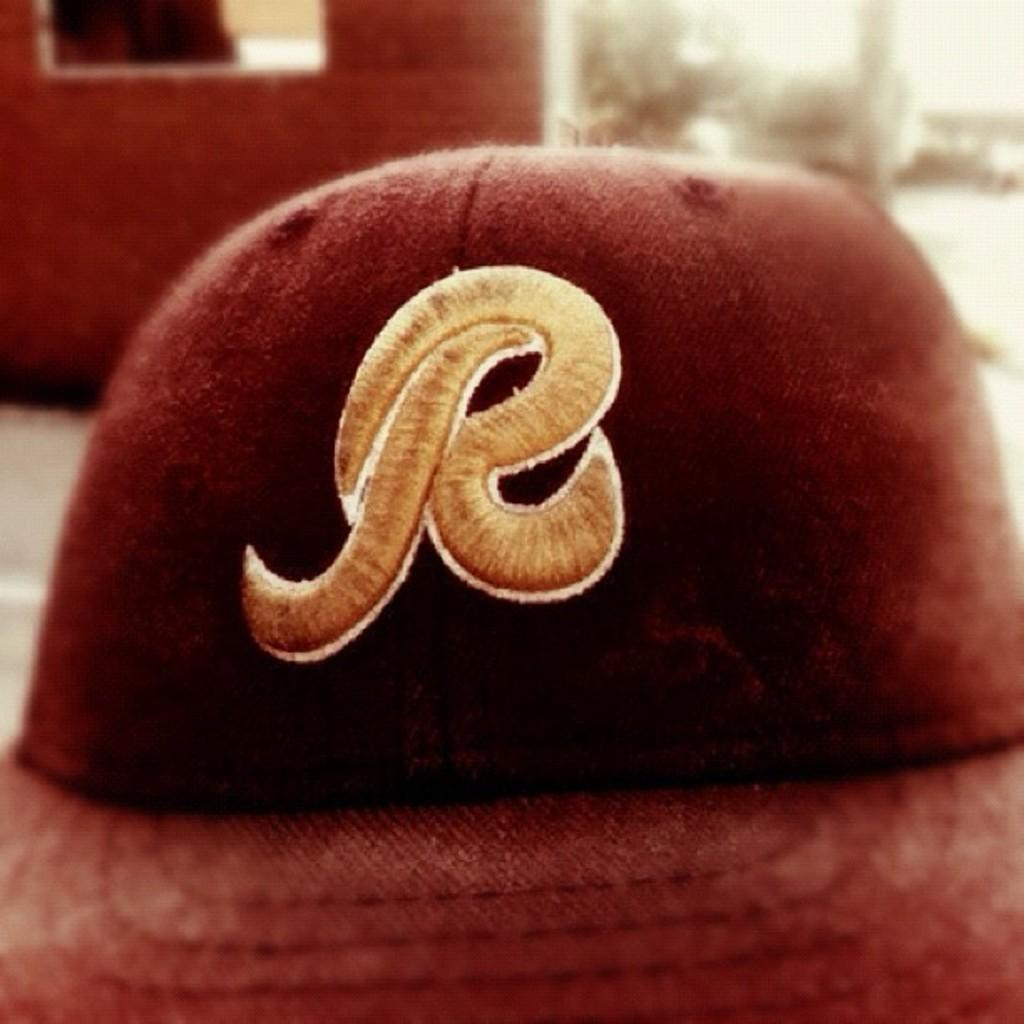Hat: (0, 140, 1022, 1022)
